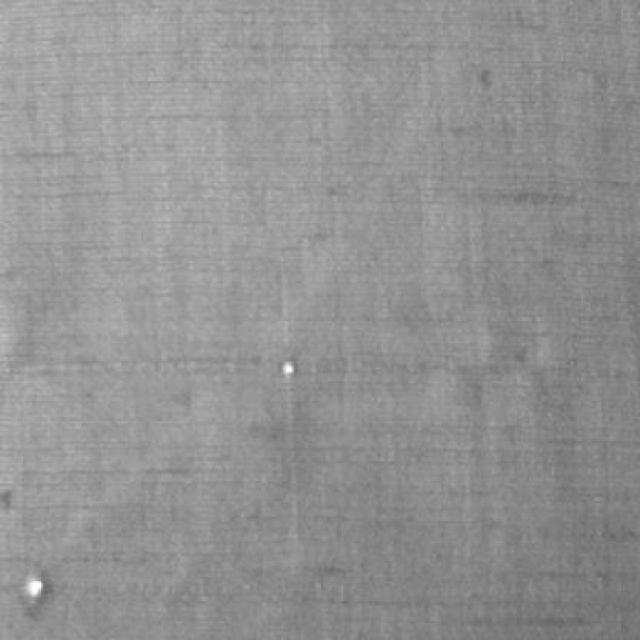seam: (230, 300, 336, 428)
